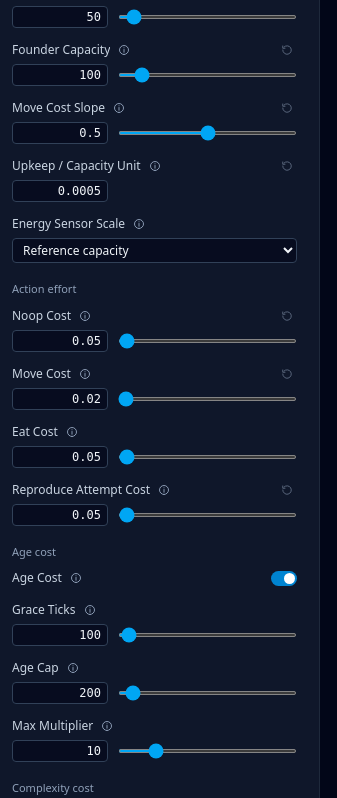
Test case: ConfigPanel › coverage and editing › undoes one row back to the applied value
(page scrolled)
Replace the text in the number field with test id "config-field-energy-costs-move-cost" with "0.5": (60, 399) top-left (12, 388), bottom-right (108, 410)
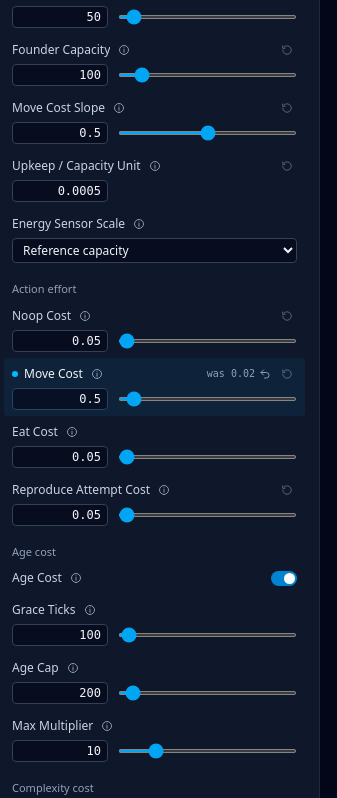
Click the button with test id "revert-energy-costs-move_cost": (239, 374) top-left (203, 364), bottom-right (275, 384)
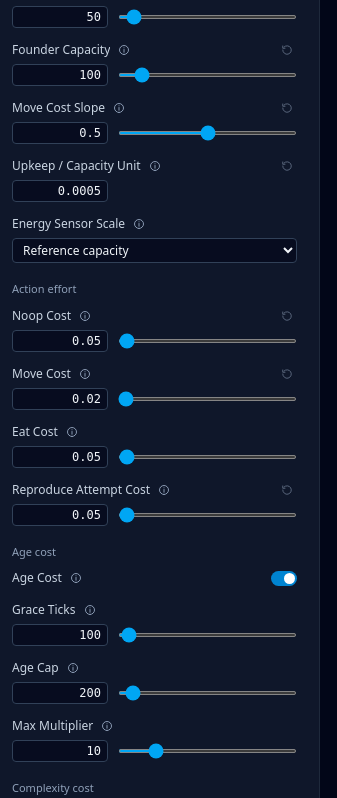
Expected: the number field with test id "config-field-energy-costs-move-cost" holds "0.02", top-left (12, 388), bottom-right (108, 410)
